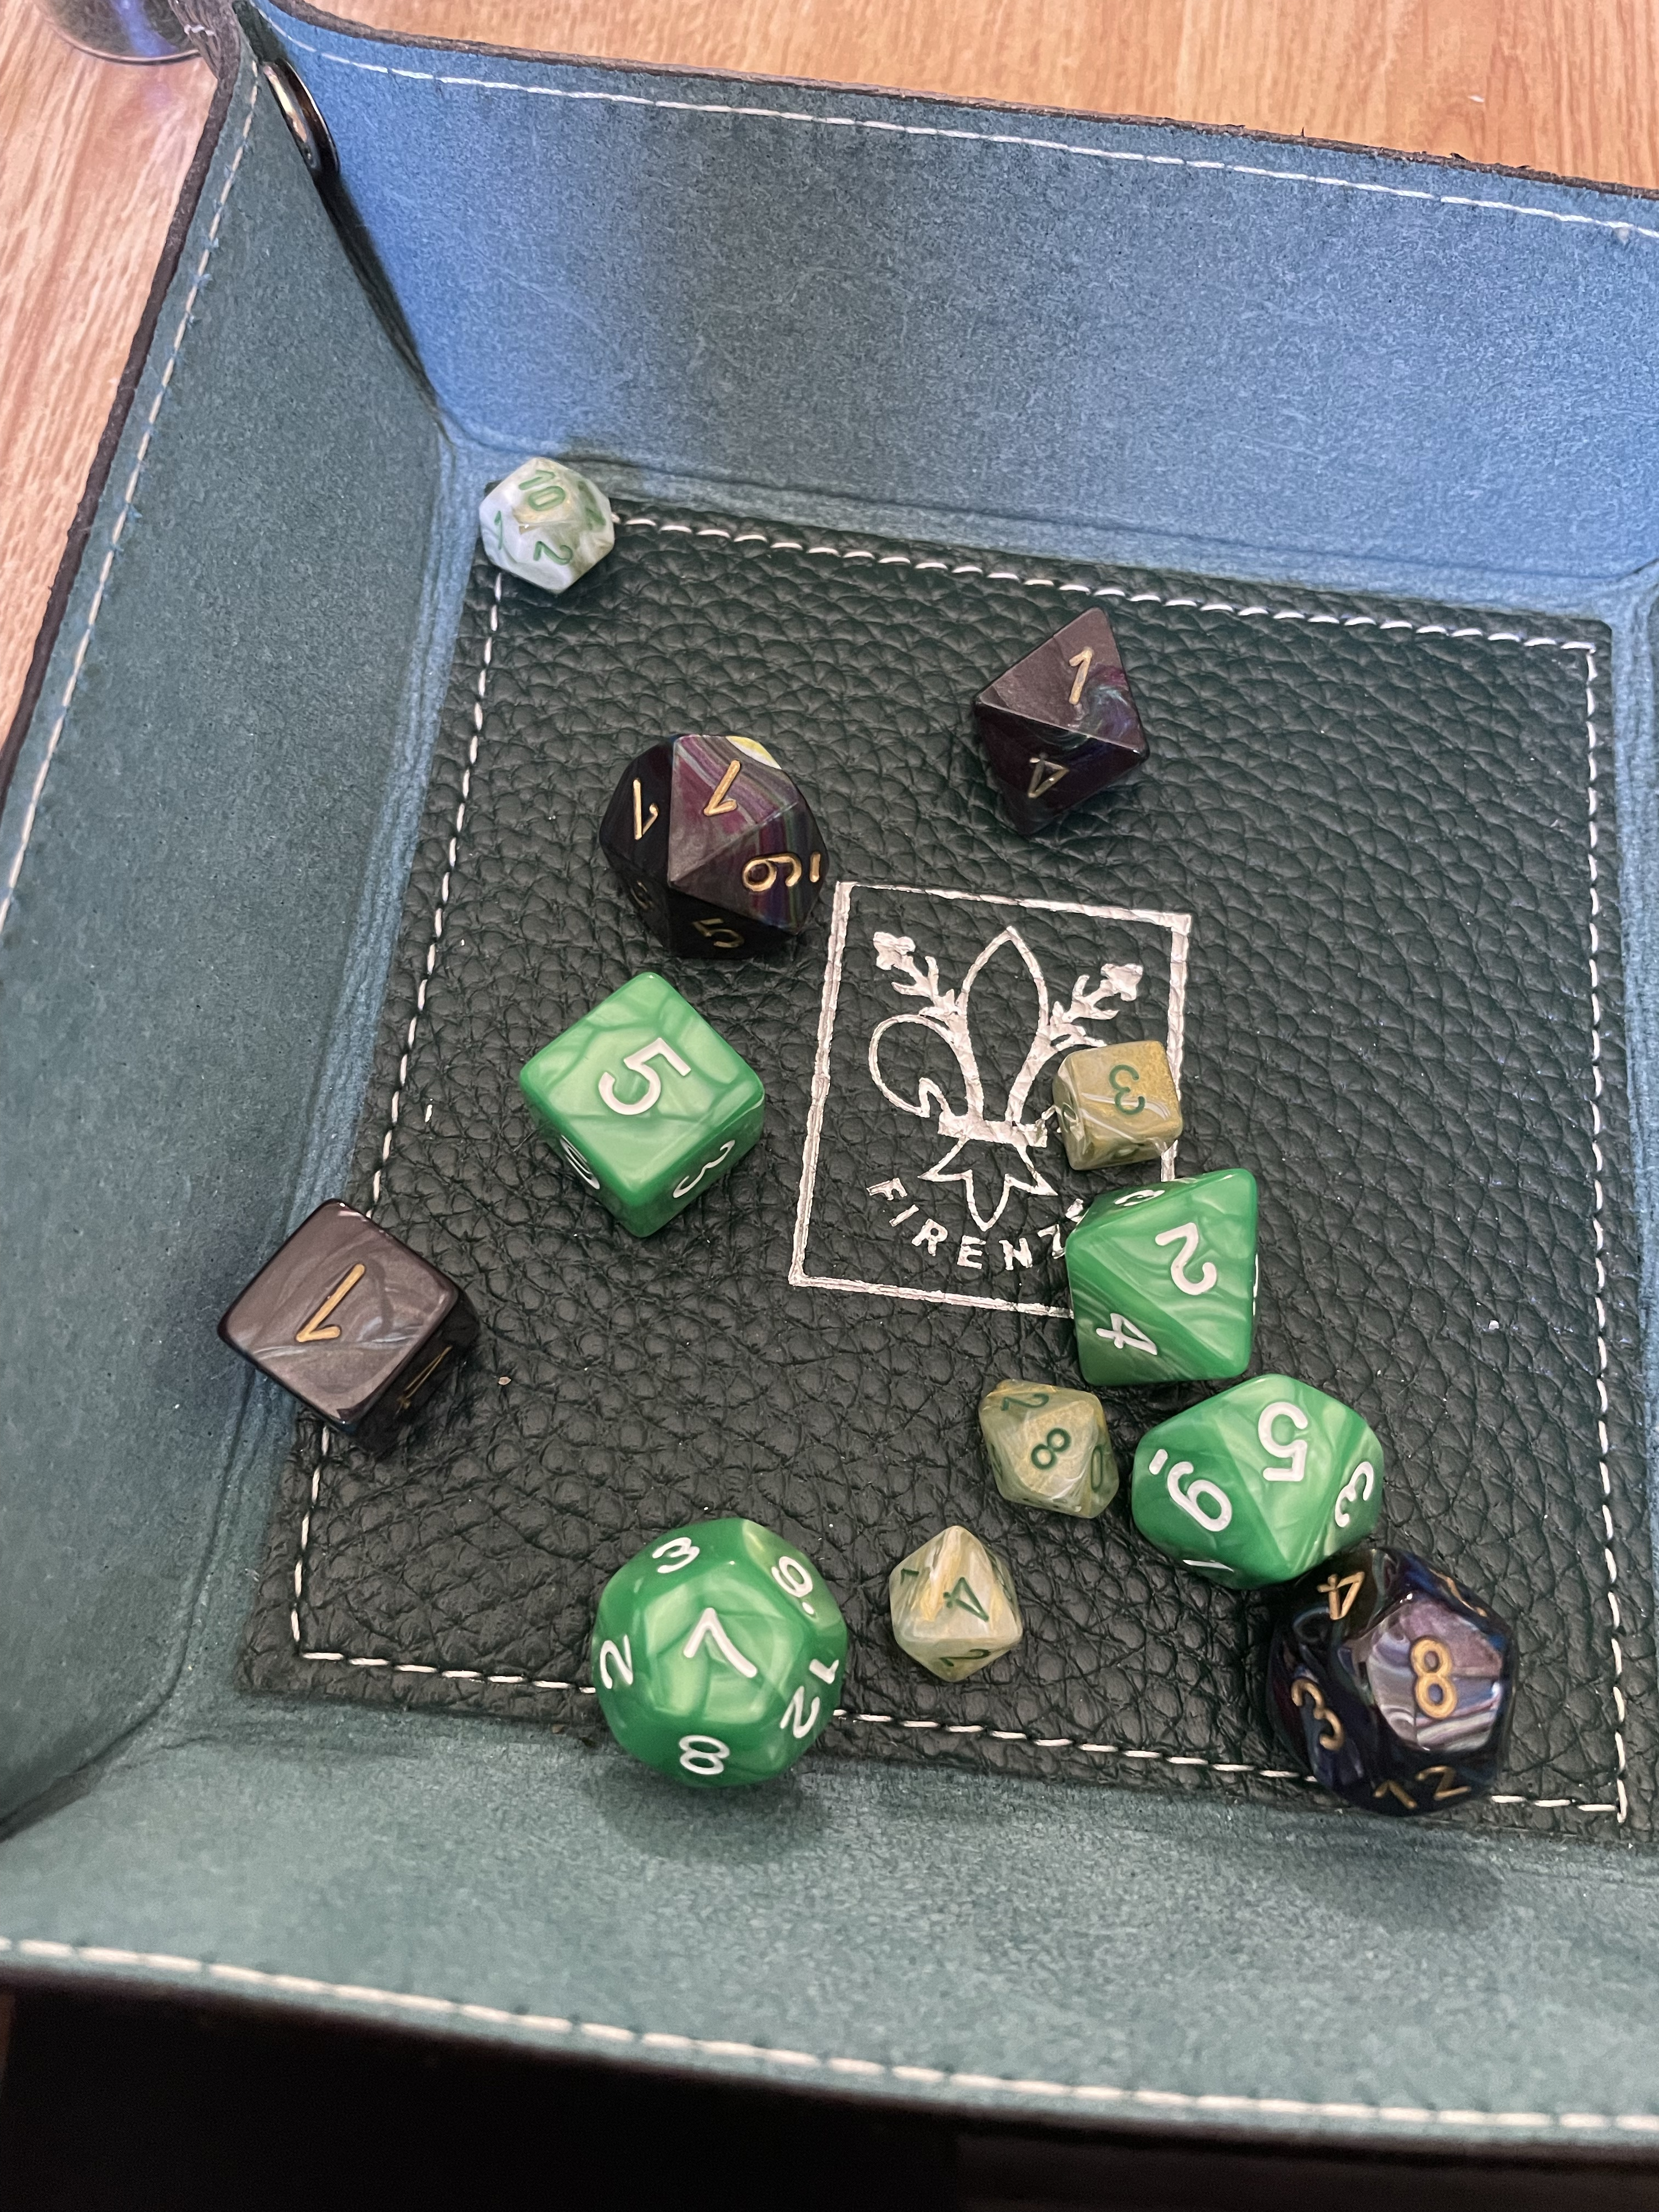eight: (1248, 1519, 1577, 1874), (951, 1353, 1136, 1538)
five: (502, 951, 795, 1271), (1119, 1357, 1403, 1609)
four: (868, 1514, 1051, 1696)
one: (173, 1148, 504, 1482), (924, 566, 1209, 862), (579, 698, 873, 970)
seven: (556, 1484, 880, 1825)
ten: (439, 428, 664, 622)
three: (1021, 1003, 1248, 1191)
two: (1026, 1160, 1331, 1381)
